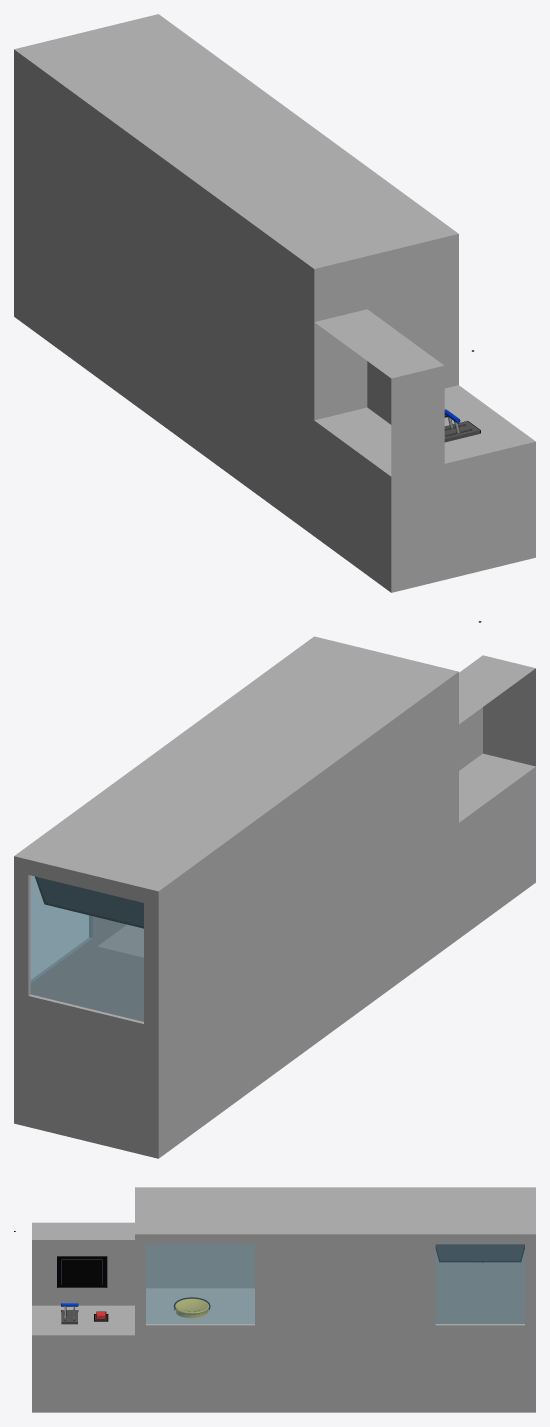
Rendered from ReloadFuelStation.fbx.
3 renders of one model, top to bottom at view 1: azimuth 30°, elevation 25°; view 2: azimuth 150°, elevation 25°; view 3: azimuth 270°, elevation 25°, orthographic. The views are drawn at different scales.
Visible parts, largest first — view 1: Estrutura; view 2: Estrutura, Vidro, Topo; view 3: Estrutura, Vidro, Topo, Moldura da tela, Tonel.
Part boxes in pixels (x1,y1,x2,y2): Estrutura: [14, 14, 535, 592]; Estrutura: [14, 636, 535, 1158]; Vidro: [30, 875, 143, 1021]; Topo: [35, 876, 143, 928]; Estrutura: [32, 1187, 535, 1412]; Vidro: [146, 1244, 524, 1323]; Topo: [435, 1244, 524, 1262]; Moldura da tela: [57, 1256, 107, 1287]; Tonel: [173, 1297, 210, 1318].
Size of the model in its own units: 352 by 622 by 1648.
